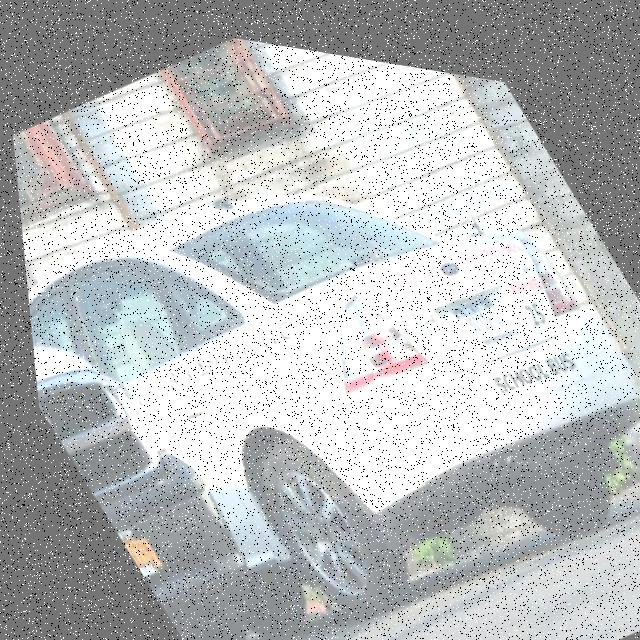license_plate: (442, 269, 516, 341), (106, 518, 158, 580)
